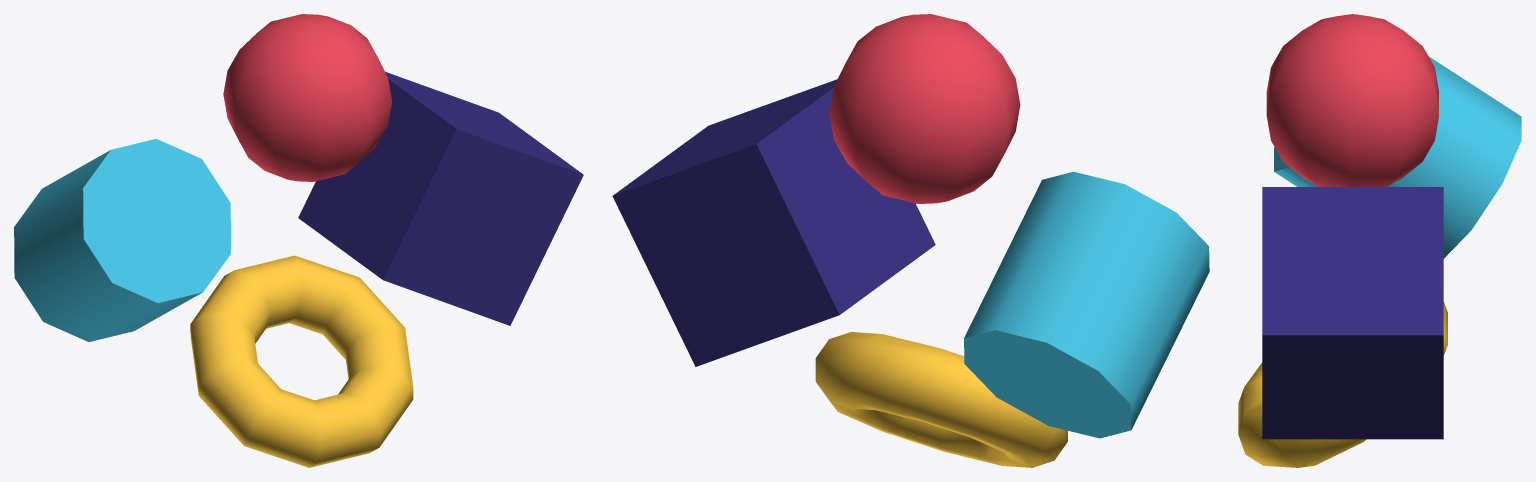
The model's file is defaultmodel.glb.
3 renders of one model, left to right at view 1: azimuth 30°, elevation 25°; view 2: azimuth 150°, elevation 25°; view 3: azimuth 270°, elevation 25°, orthographic. The views are drawn at different scales.
Parts seen in each view (by area): view 1: Box, Cylinder, Torus, Sphere; view 2: Box, Cylinder, Sphere, Torus; view 3: Box, Sphere, Cylinder, Torus.
Boxes of the visible parts, x1,y1,x2,y2 form: Box: (298,71,583,325); Cylinder: (14,138,230,341); Torus: (190,255,413,467); Sphere: (223,14,392,181); Box: (612,79,935,366); Cylinder: (964,171,1209,438); Sphere: (829,14,1020,203); Torus: (815,332,1067,467); Box: (1262,187,1443,439); Sphere: (1266,14,1438,186); Cylinder: (1274,56,1521,258); Torus: (1238,301,1447,467).
Bounding box in the file's own units: 0.3205 × 0.2643 × 0.1563.
